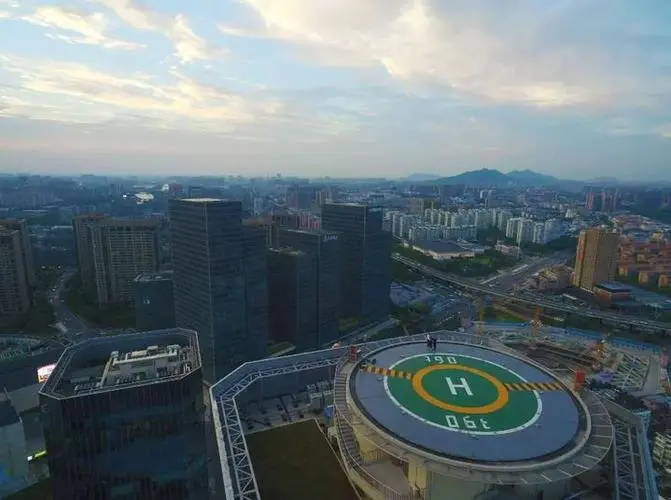Apron: (411, 363, 509, 415)
